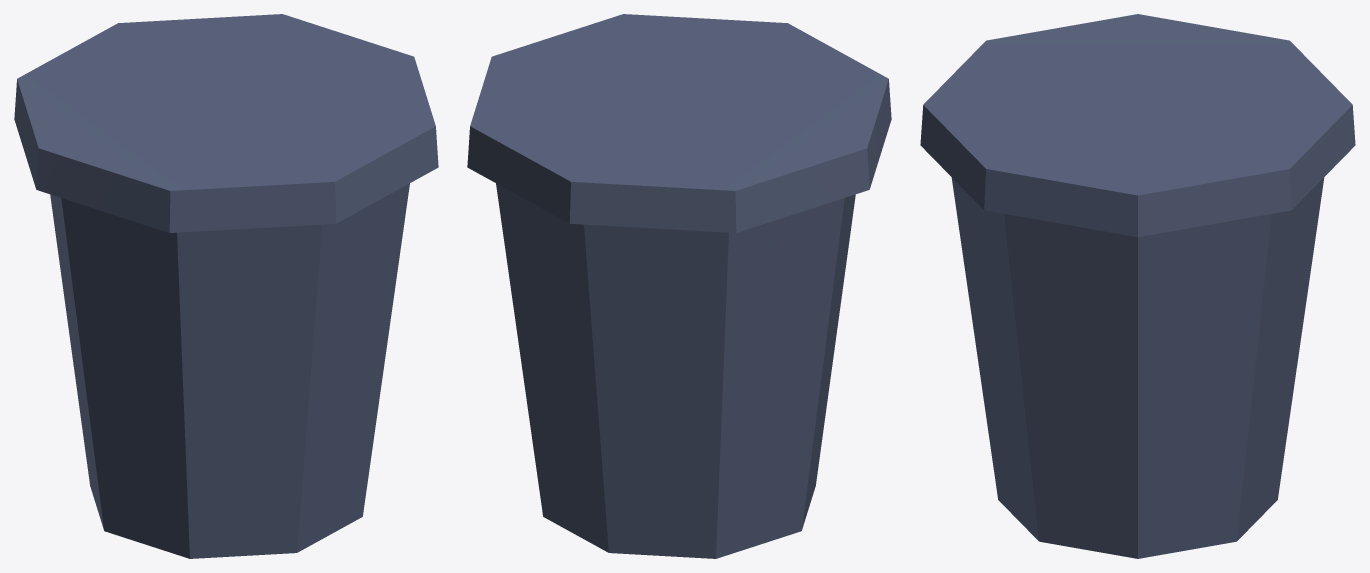
File: Bin.fbx
The picture shows the model from 3 angles, left to right: view 1: azimuth 30°, elevation 25°; view 2: azimuth 150°, elevation 25°; view 3: azimuth 270°, elevation 25°; orthographic projection.
Parts seen in each view (by area): view 1: Bin; view 2: Bin; view 3: Bin.
Boxes of the visible parts, bbox=[...] form: Bin: bbox=[14, 14, 438, 558]; Bin: bbox=[467, 14, 891, 558]; Bin: bbox=[920, 14, 1355, 558].
Bounding box in the file's own units: 197 × 197 × 197.
